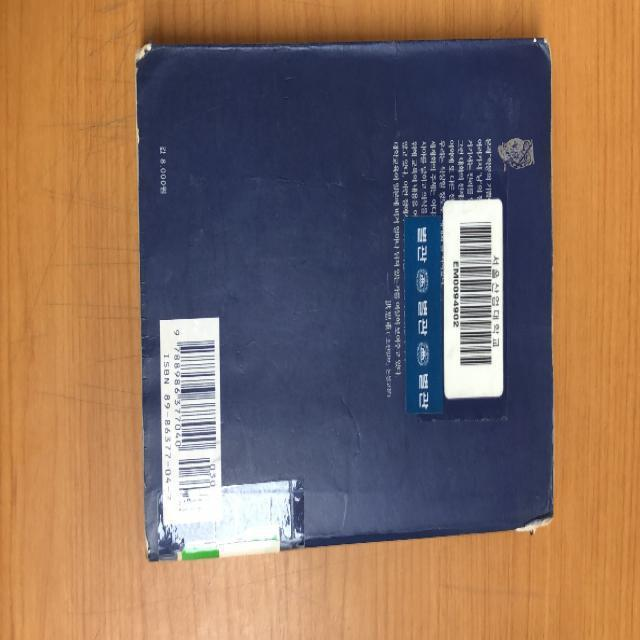Ripped: (512, 505, 558, 541)
Wornout: (158, 37, 331, 63), (137, 406, 156, 565), (544, 237, 559, 374), (131, 67, 144, 192), (531, 27, 554, 65), (132, 35, 158, 66), (549, 406, 557, 497)
